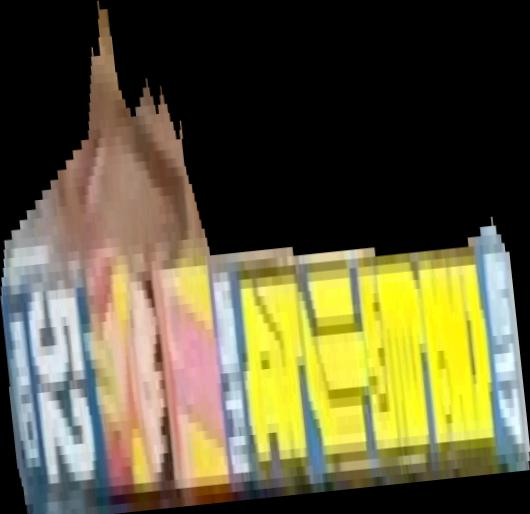flat: (1, 1, 530, 514)
